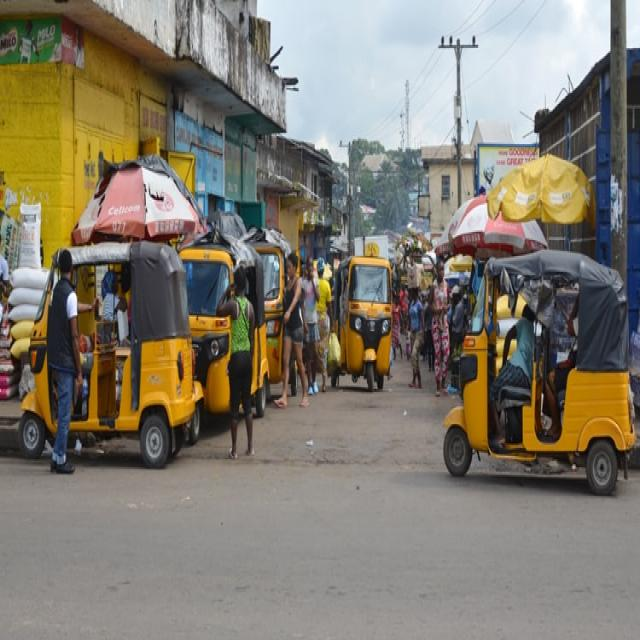autorikshaw: (445, 255, 630, 489), (18, 246, 196, 460), (181, 246, 270, 415), (336, 253, 396, 394)
